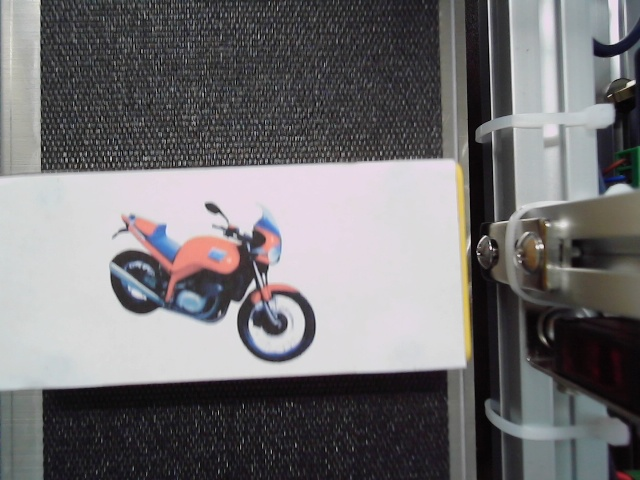motorcycle: (113, 200, 319, 363)
